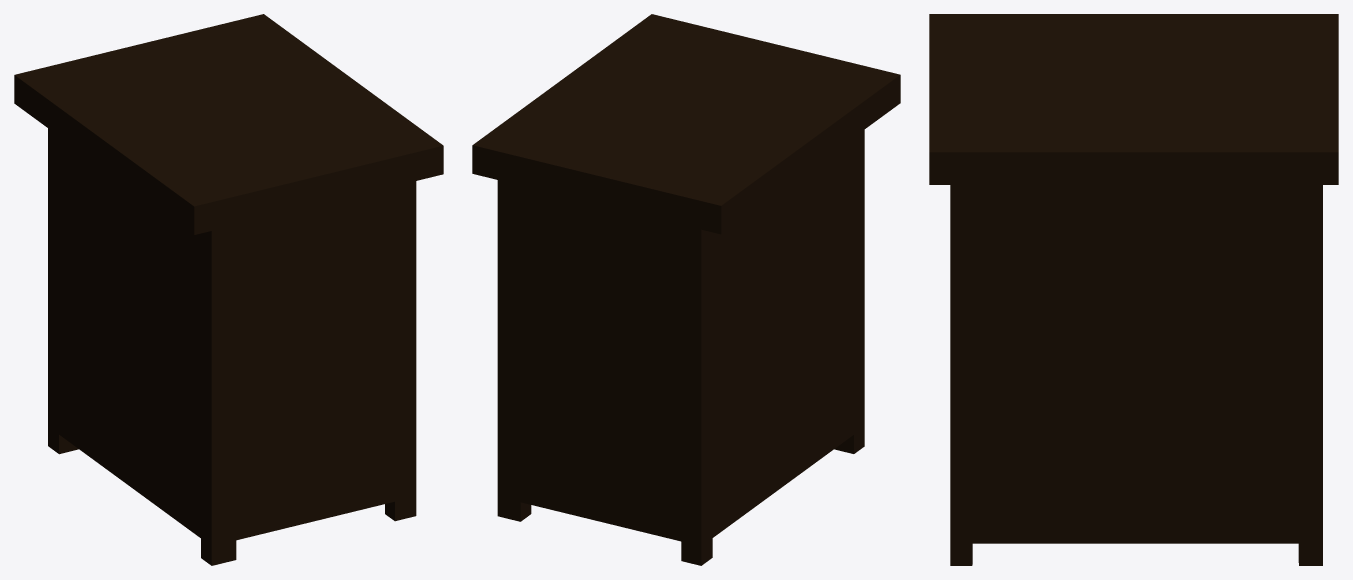
Rendered from kast_Export 1.fbx.
The picture shows the model from 3 angles, left to right: view 1: azimuth 30°, elevation 25°; view 2: azimuth 150°, elevation 25°; view 3: azimuth 270°, elevation 25°; orthographic projection. The views are drawn at different scales.
Parts seen in each view (by area): view 1: pCube4; view 2: pCube4; view 3: pCube4.
Boxes of the visible parts, <box> form: pCube4: <box>14,14,443,565</box>; pCube4: <box>472,14,900,565</box>; pCube4: <box>929,14,1338,565</box>.
Size of the model in its own units: 1.22 by 1.74 by 1.52.
